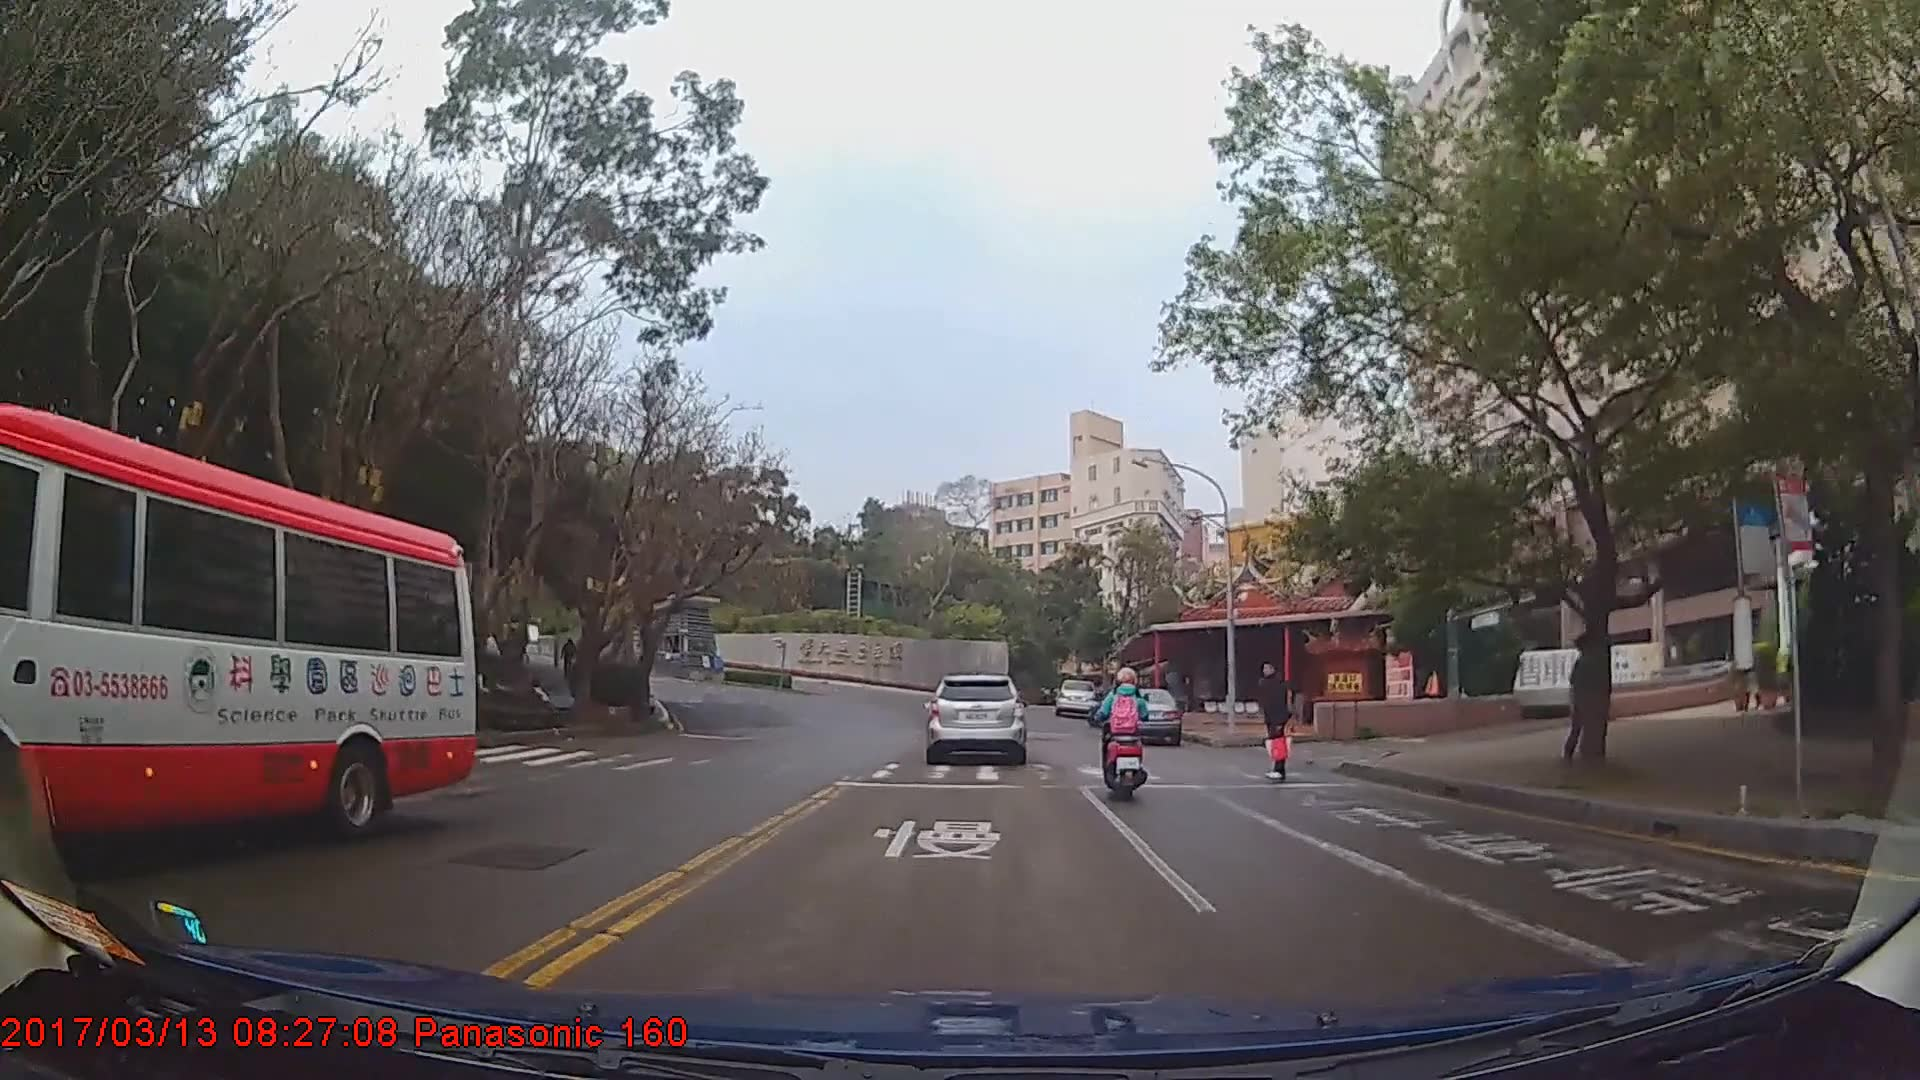pedestrian: (1258, 657, 1299, 785)
rider: (1093, 669, 1153, 802)
vehicle: (0, 401, 481, 875), (926, 672, 1028, 764), (1111, 686, 1183, 749), (1057, 679, 1098, 719)
